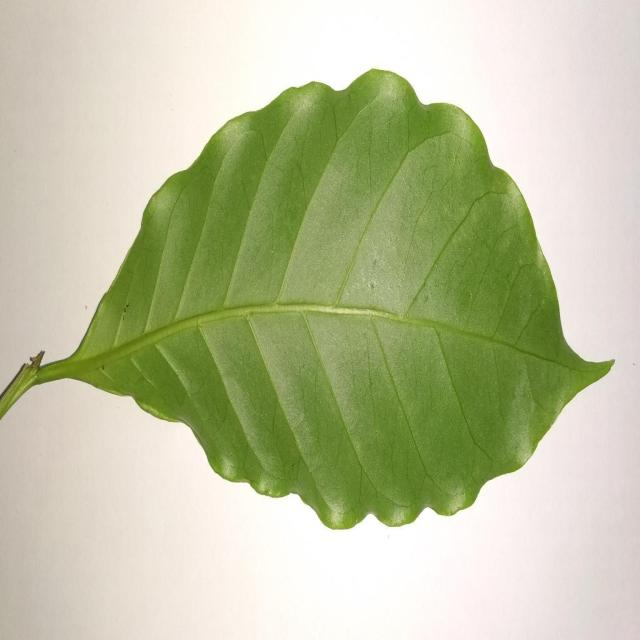Sanas: (0, 69, 616, 532)
